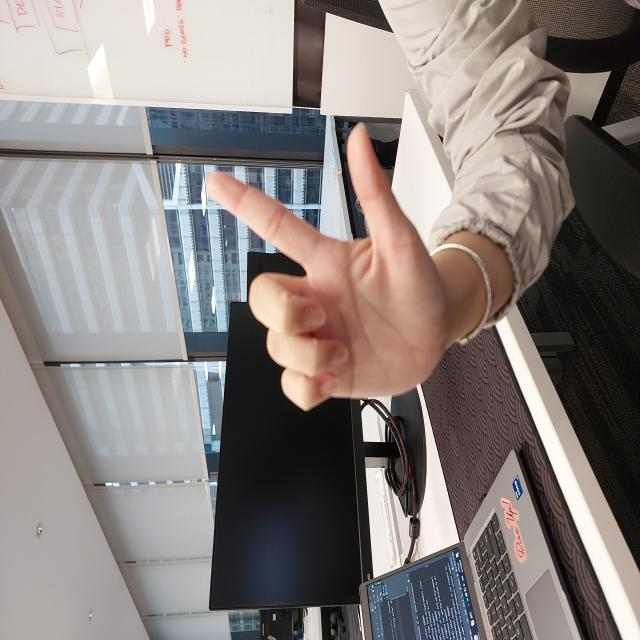L: (227, 204, 517, 445)
